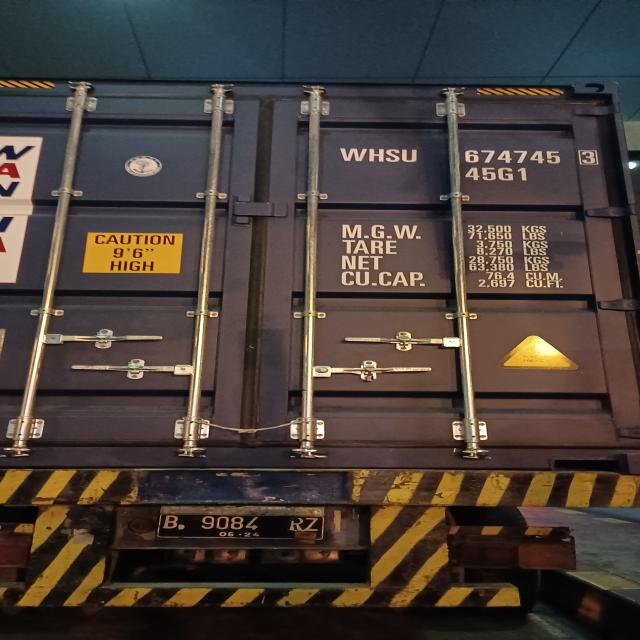seal: (358, 364, 380, 383)
